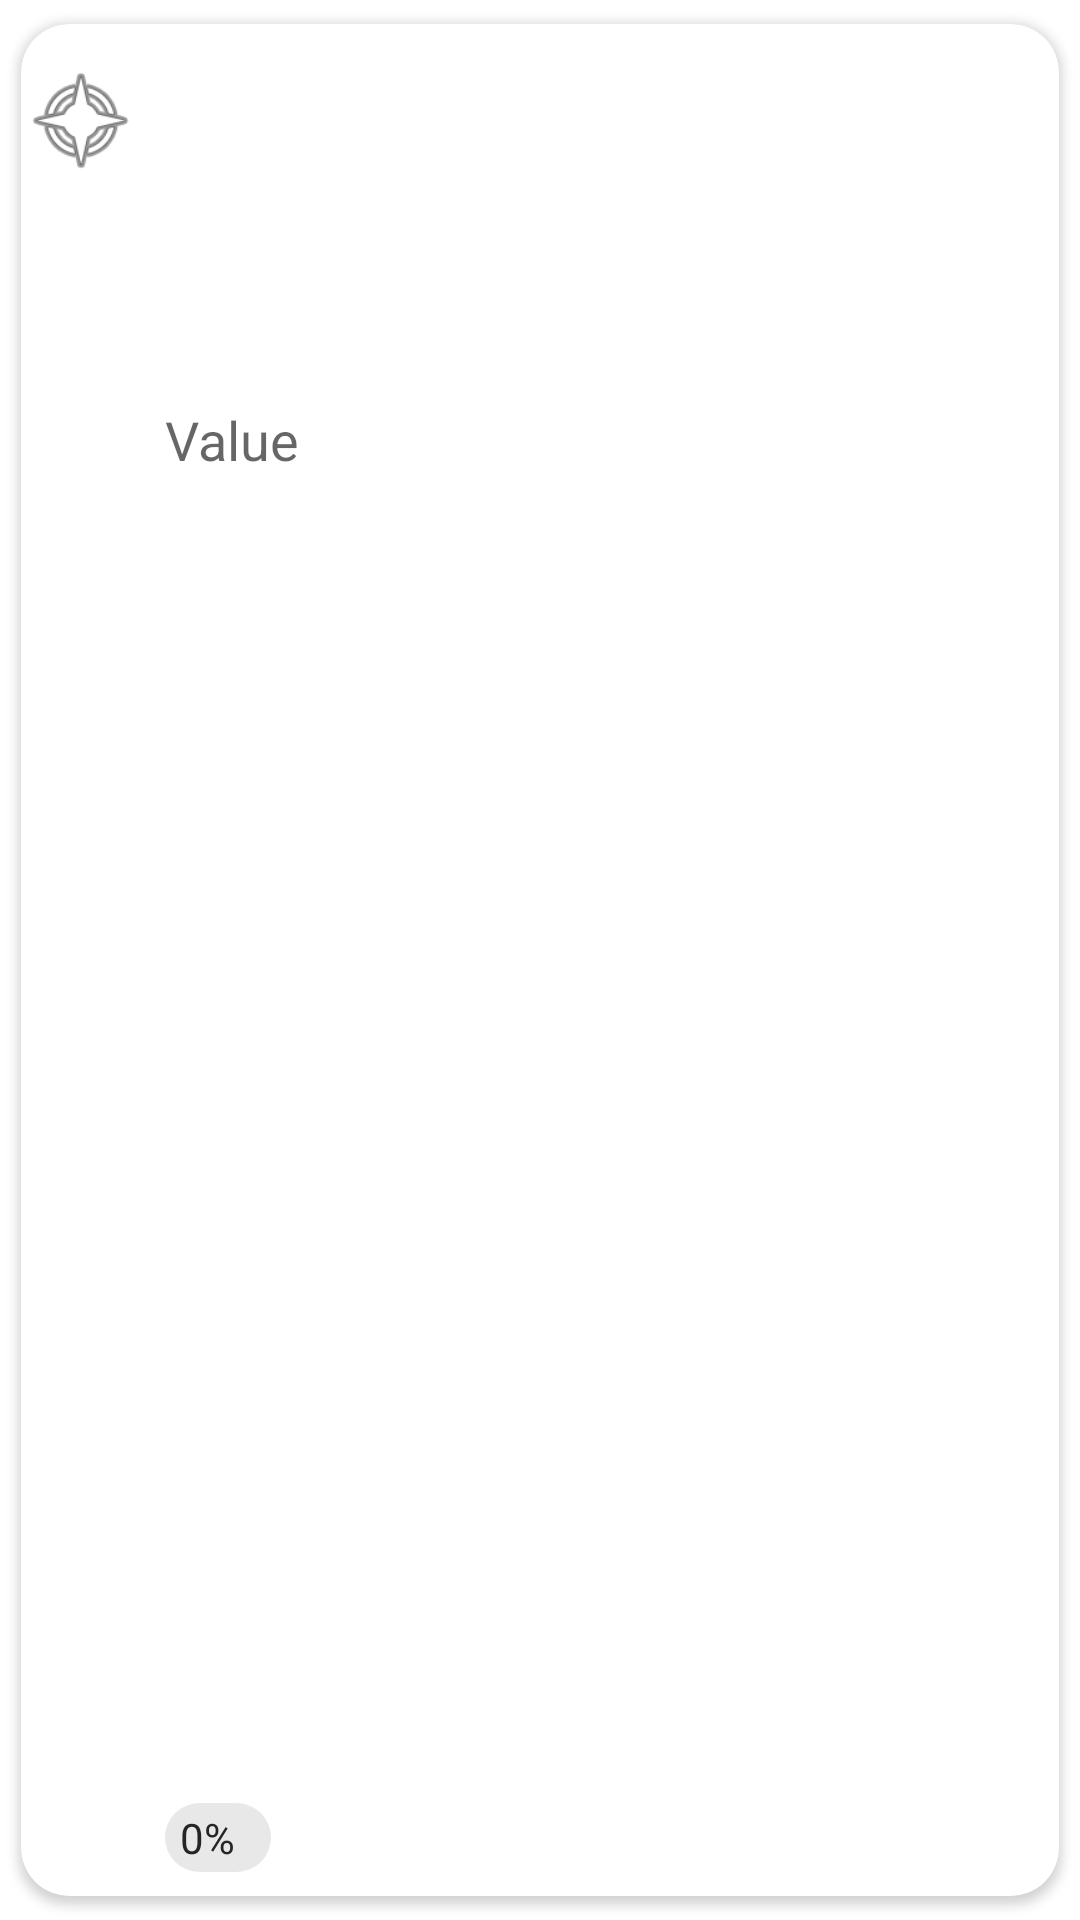

Where to tap for icons on this 1080 × 1920 app screen, as (x=x, y=y):
compass: (x=80, y=120)
